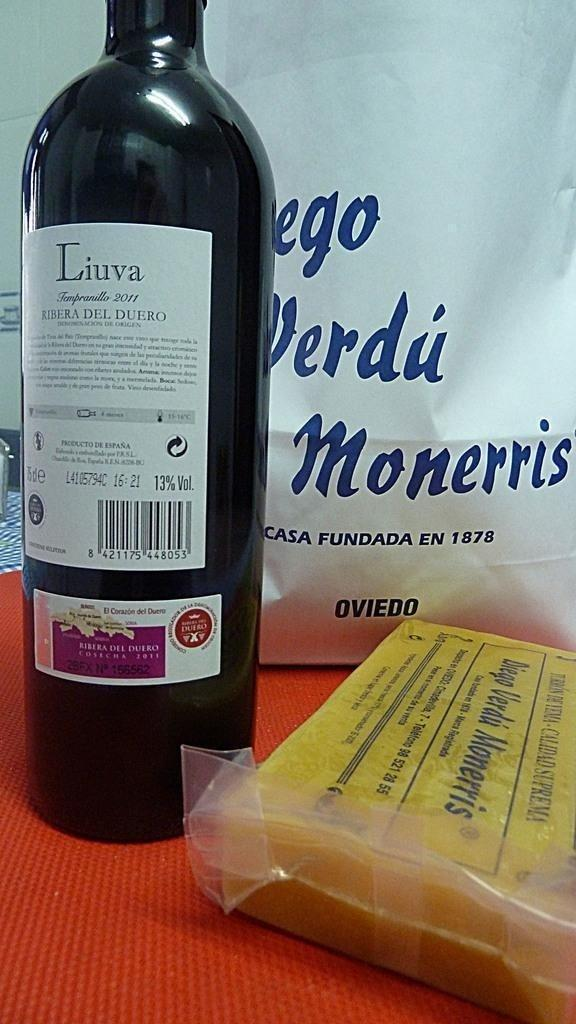bottle-glass: (13, 1, 276, 844)
